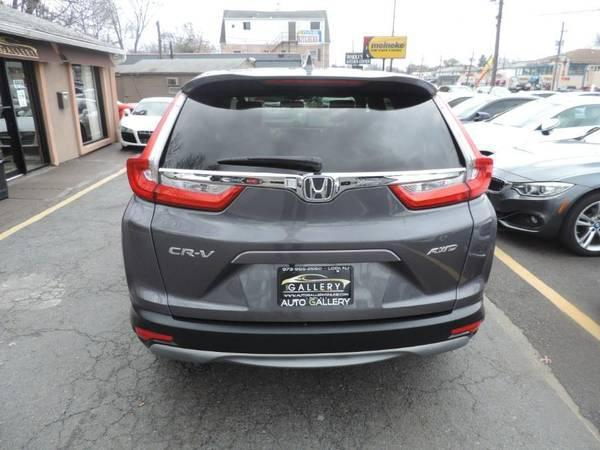Left_Taillight: (124, 96, 247, 215)
Rear_Bumper: (121, 192, 497, 374)
Rear_Windshield: (159, 86, 461, 179)
Right_Taillight: (387, 96, 493, 212)
Tailgate: (154, 172, 472, 323)
